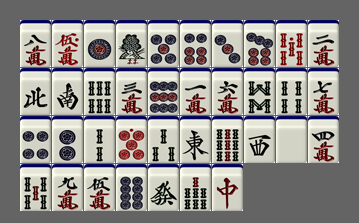0m: (52, 20, 83, 67)
0p: (116, 116, 147, 163)
0s: (276, 20, 307, 67)
1m: (180, 68, 211, 115)
1p: (84, 20, 115, 67)
1s: (116, 20, 147, 67)
1z: (180, 116, 211, 163)
2m: (308, 20, 339, 67)
2p: (52, 116, 83, 163)
2s: (84, 116, 115, 163)
2z: (52, 68, 83, 115)
3m: (116, 68, 147, 115)
3p: (212, 20, 243, 67)
3s: (148, 116, 179, 163)
3z: (244, 116, 275, 163)
4m: (308, 116, 339, 163)
4p: (20, 116, 51, 163)
4s: (276, 68, 307, 115)
4z: (20, 68, 51, 115)
5m: (84, 164, 115, 211)
5p: (148, 20, 179, 67)
5s: (20, 164, 51, 211)
5z: (276, 116, 307, 163)
6m: (212, 68, 243, 115)
6p: (180, 20, 211, 67)
6s: (84, 68, 115, 115)
6z: (148, 164, 179, 211)
7m: (308, 68, 339, 115)
7p: (244, 20, 275, 67)
7s: (180, 164, 211, 211)
7z: (212, 164, 243, 211)
8m: (20, 20, 51, 67)
8p: (116, 164, 147, 211)
8s: (244, 68, 275, 115)
9m: (52, 164, 83, 211)
9p: (148, 68, 179, 115)
9s: (212, 116, 243, 163)
